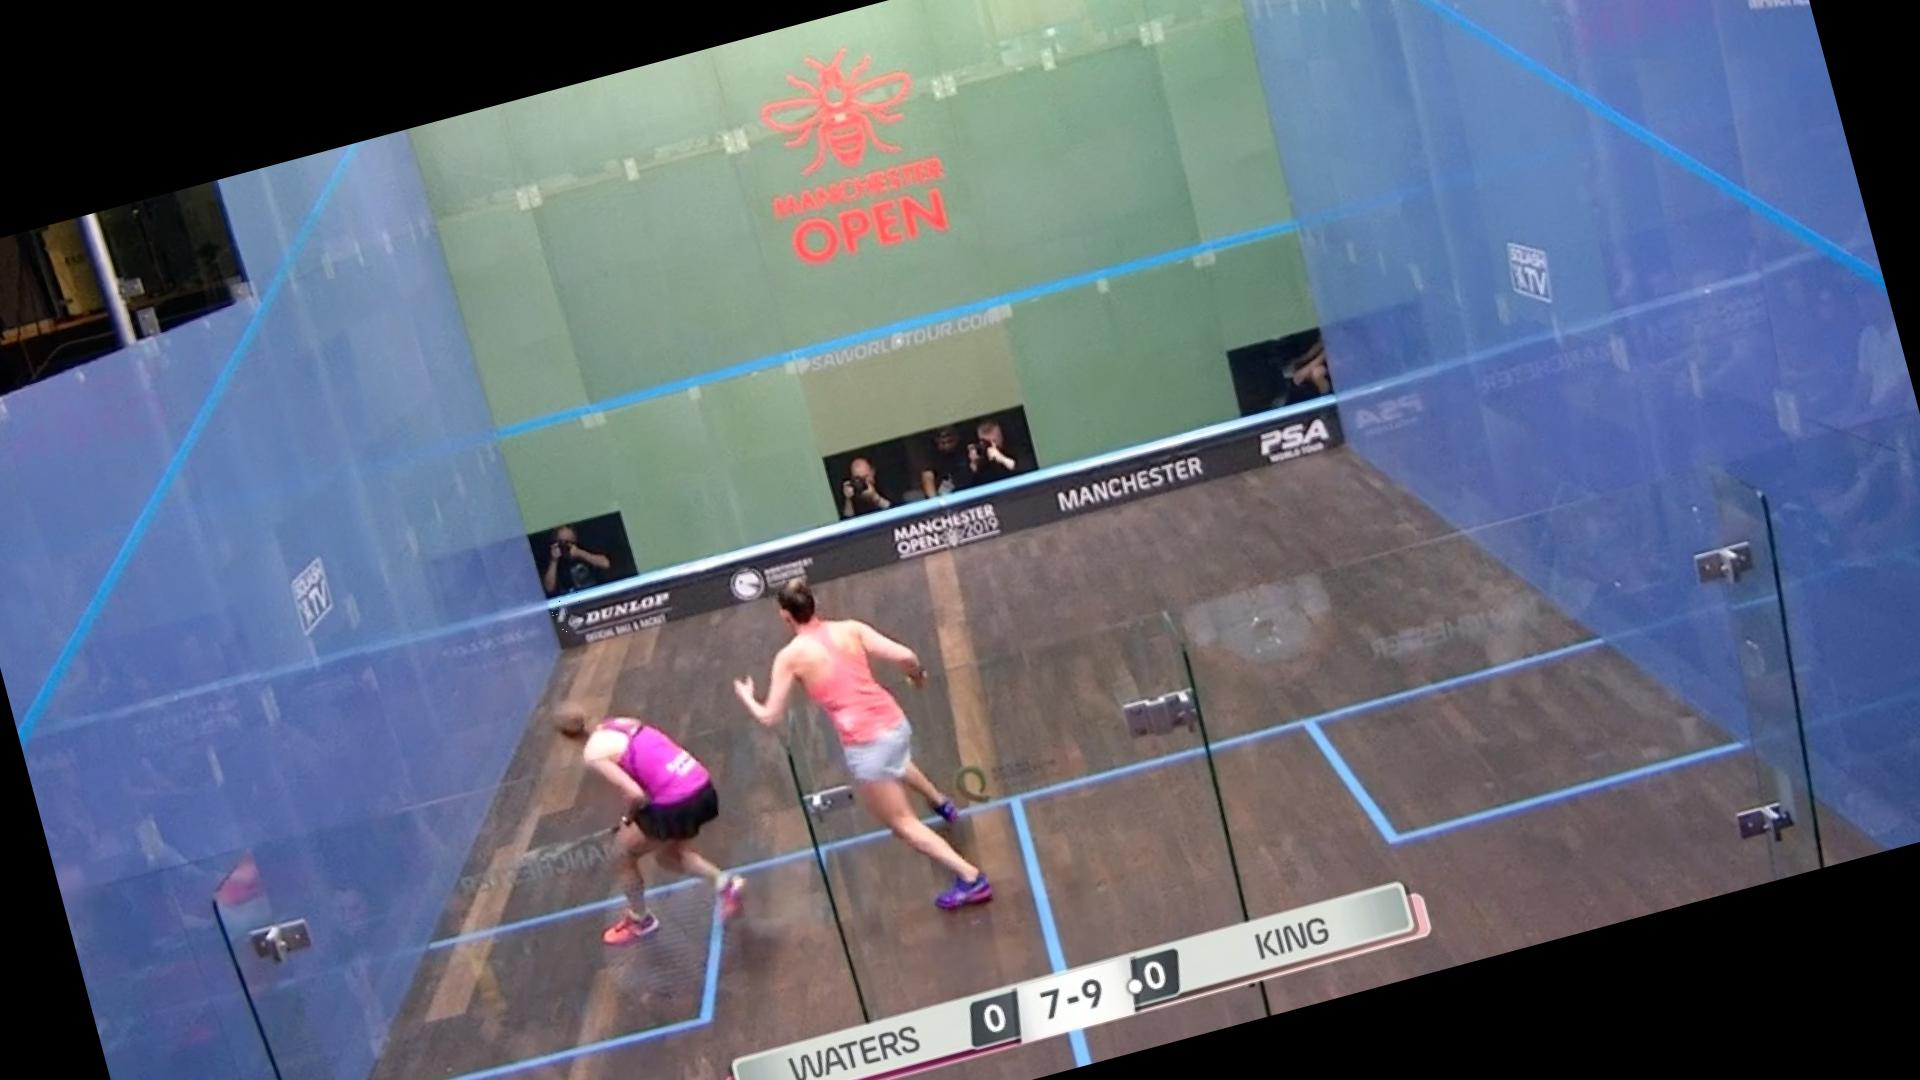Squash-Ball: (546, 588, 593, 641)
